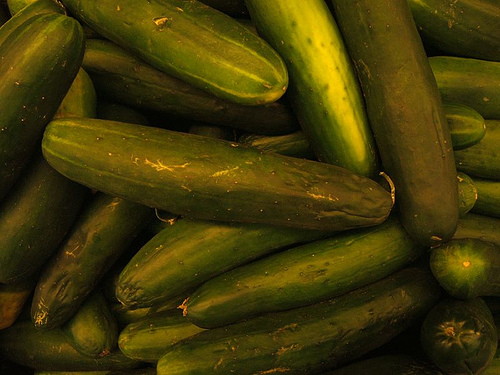cucumber: (41, 115, 397, 235), (333, 1, 459, 246), (58, 0, 288, 103)
